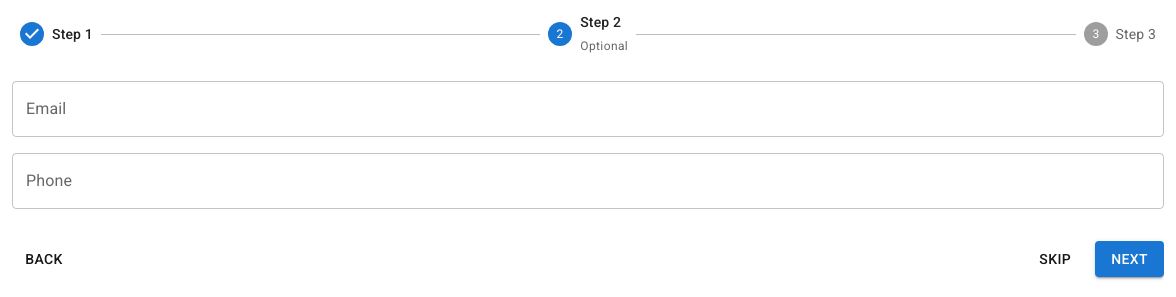
Test case: StepperForm › Navigation › should allow skipping optional steps
What coordinates should you click on to do the following:
click the button "Skip"
I would click on:
 (1055, 259)
Its box is [1023,241,1087,277].
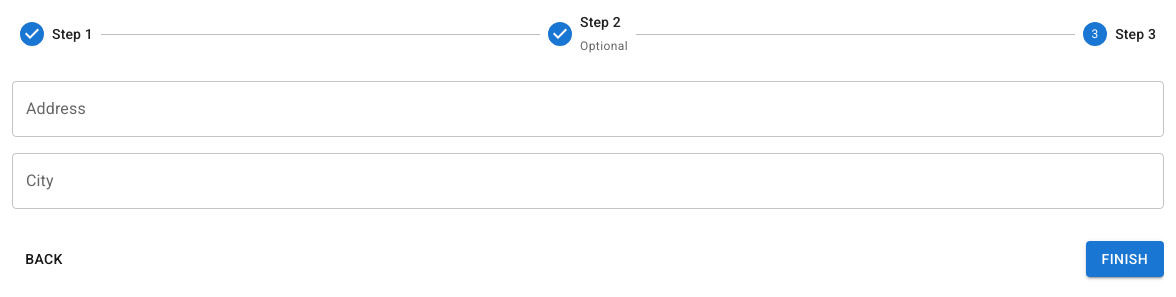
Check: the field labelled "Address" is shown, box [12,81,1164,137]
